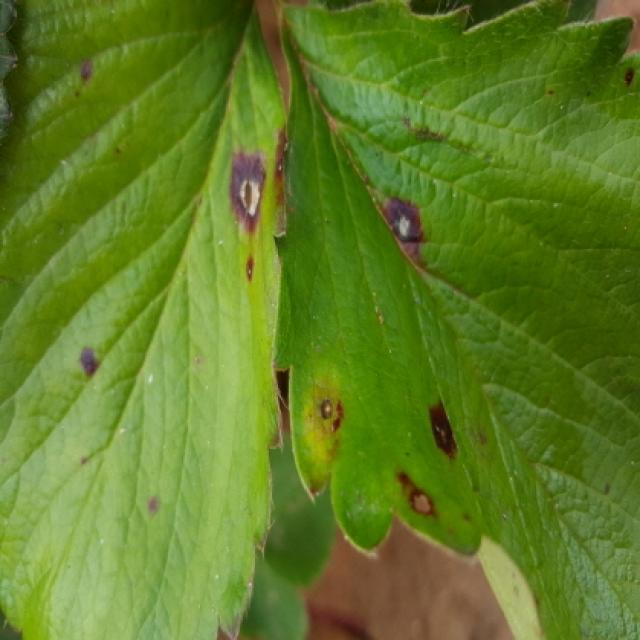Leaf Spot: (272, 0, 638, 638), (0, 0, 288, 638)
